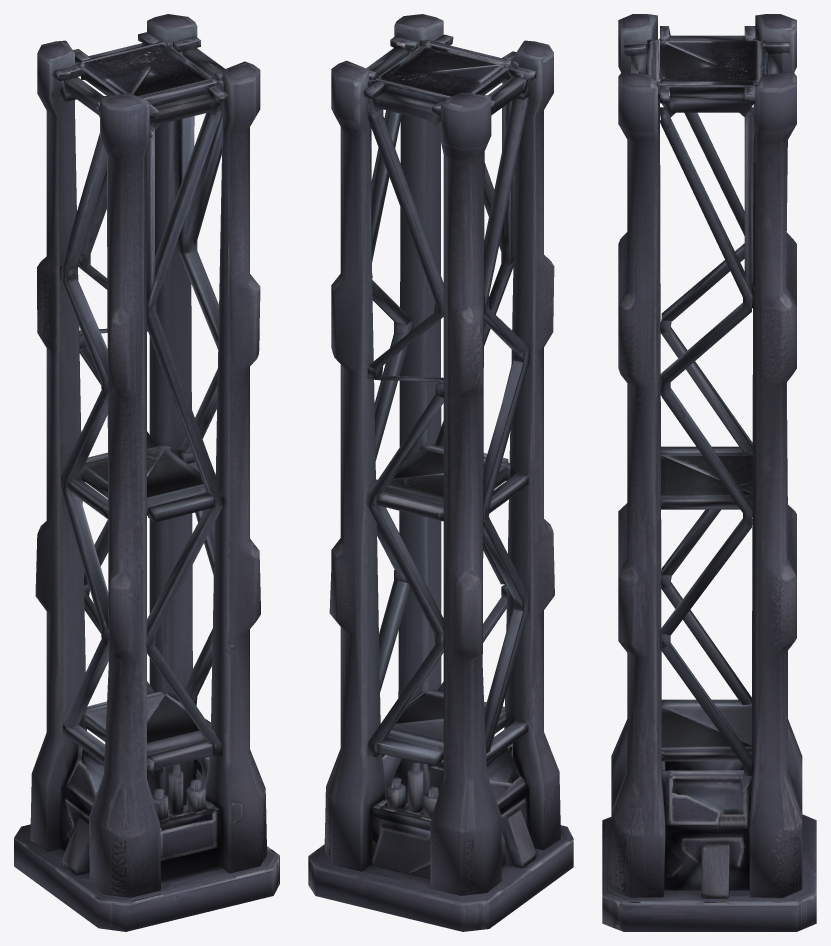
The model's file is tripo_convert_10cf30fb-df16-4fdc-a71d-b961d54e0083.fbx.
3 views of the same model, side by side, from view 1: azimuth 30°, elevation 25°; view 2: azimuth 150°, elevation 25°; view 3: azimuth 270°, elevation 25° (orthographic). The views are drawn at different scales.
Visible parts, largest first — view 1: tripo_node_10cf30fb; view 2: tripo_node_10cf30fb; view 3: tripo_node_10cf30fb.
Part boxes in pixels (bbox=[...]): tripo_node_10cf30fb: bbox=[14, 14, 279, 931]; tripo_node_10cf30fb: bbox=[308, 14, 573, 931]; tripo_node_10cf30fb: bbox=[602, 14, 816, 931].
Bounding box in the file's own units: 0.2324 × 0.998 × 0.2324.
1 material, 1 textured.
